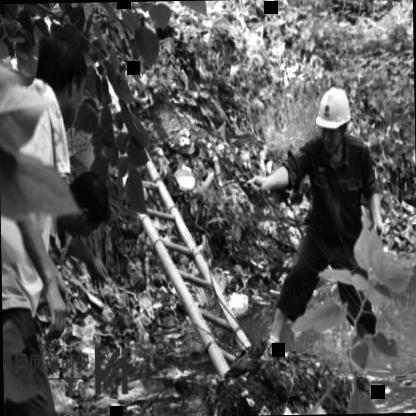head: (29, 32, 91, 134), (48, 168, 116, 246)
helmet: (314, 82, 354, 155)
